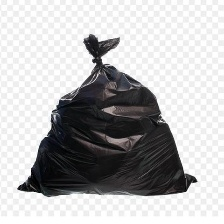plastic_bag: (12, 31, 201, 200)
